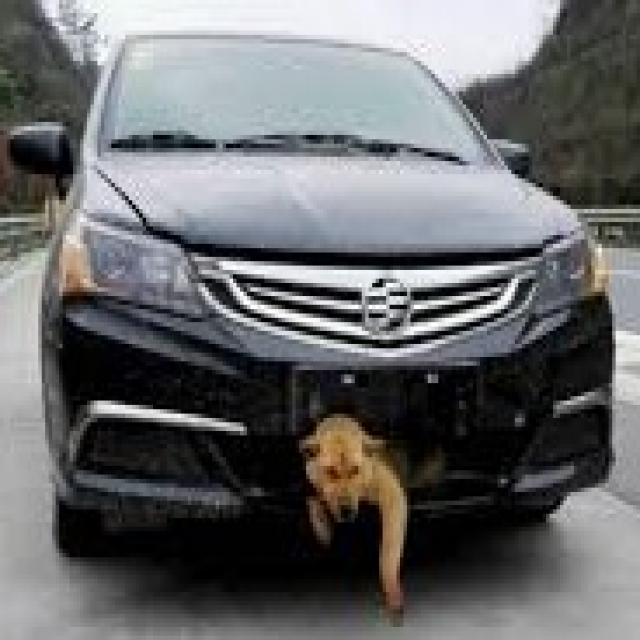minor: (251, 347, 474, 625)
